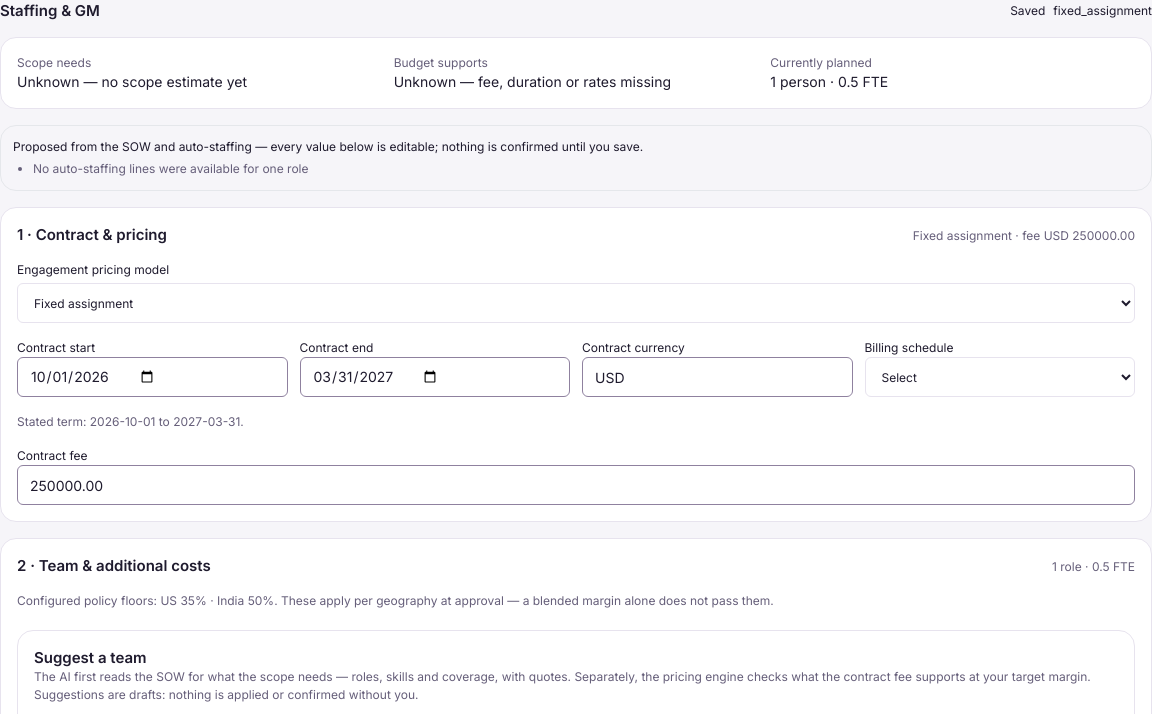
Test: commercial proposal prefill › offers reset after edits instead of silently overwriting
Replace the text in the field labelled "Contract fee" with "99" at (576, 485), box [17,465,1135,505]
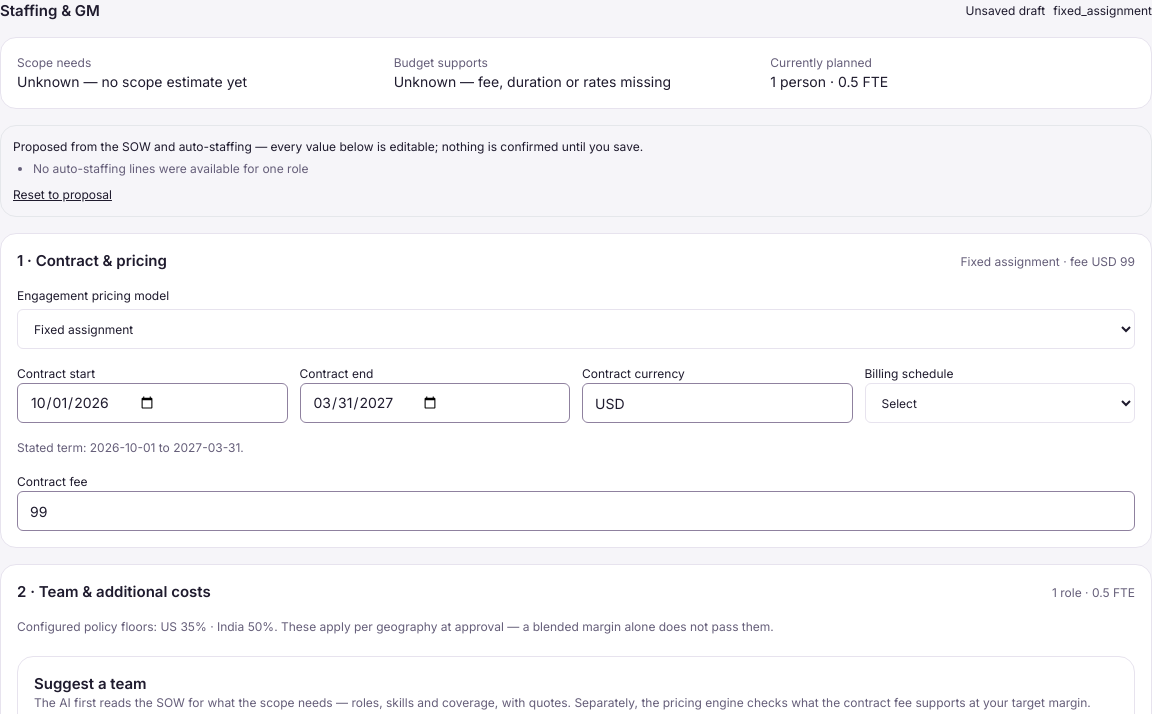
Click the button with test id "proposal-reset" at (62, 195), box [13,186,112,204]
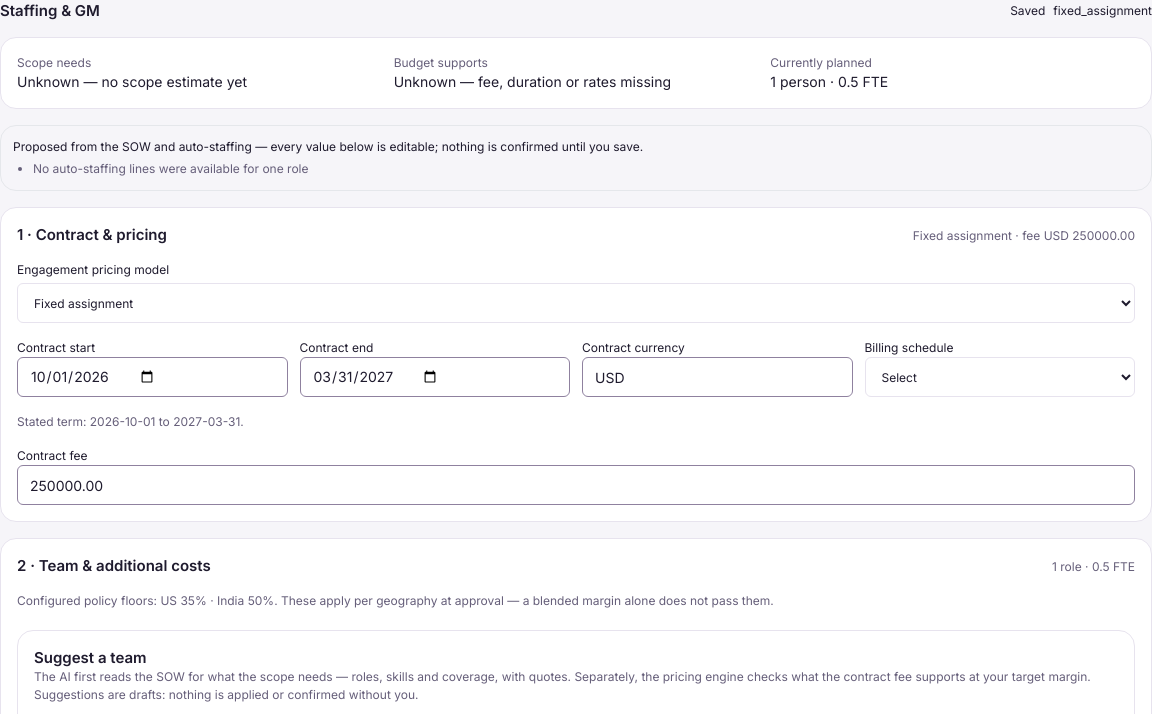
expect the field labelled "Contract fee" holds "250000.00": met, box [17,465,1135,505]
